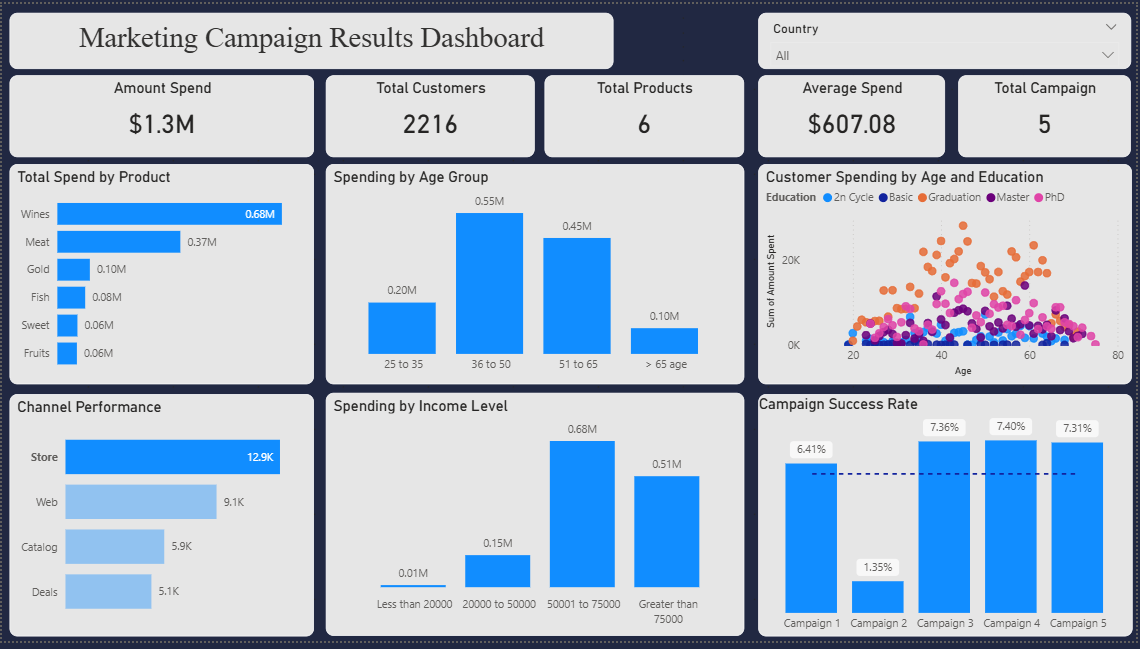

The page's visual inventory and layout, read from the dashboard file:
{"tool":"powerbi","page":{"name":"Page 1","canvas":[1280,720],"ordinal":0},"visuals":[{"type":"card","title":"Total Customers","fields":{"Values":["CountNonNull(marketing_data.ID)"]},"box":[363.6,79.6,234.6,91.9],"z":0},{"type":"card","title":"Total Products","fields":{"Values":["MarketingData.Total Products"]},"box":[609.3,79.6,223.7,91.9],"z":1000},{"type":"card","title":"Average Spend","fields":{"Values":["MarketingData.Avg Spend per Customer"]},"box":[848,79.6,209.9,91.9],"z":2000},{"type":"card","title":"Total Campaign","fields":{"Values":["MarketingData.Total Campaign"]},"box":[1073.1,79.6,193.5,91.9],"z":3000},{"type":"card","title":"Amount Spend  ","fields":{"Values":["MarketingData.Total Revenue"]},"box":[8.2,79.6,341.7,91.9],"z":4000},{"type":"barChart","title":"Total Spend by Product","fields":{"Y":["Products.Total Spend by Product"],"Category":["Products.Product"]},"box":[8.2,179.8,341.7,247],"z":5000},{"type":"barChart","title":"Channel Performance","fields":{"Y":["Channels.Total by Channel"],"Category":["Channels.Channel"]},"box":[8.2,437.7,341.7,271.7],"z":6000},{"type":"textbox","box":[8.2,9.6,677.9,63.1],"z":7000},{"type":"columnChart","title":"Spending by Age Group","fields":{"Y":["MarketingData.Amount Spent"],"Category":["MarketingData.Age Group"]},"box":[363.6,179.8,469.3,247],"z":8000},{"type":"columnChart","title":"Spending by Income Level","fields":{"Y":["MarketingData.Amount Spent"],"Category":["MarketingData.Income brackets"]},"box":[363.6,436.4,469.3,273.1],"z":9000},{"type":"scatterChart","title":"Customer Spending by Age and Education","fields":{"Y":["Sum(MarketingData.Amount Spent )"],"X":["MarketingData.Age"],"Series":["MarketingData.Education"]},"box":[847.7,180,419.2,246.9],"z":10000},{"type":"lineStackedColumnComboChart","title":"Campaign Success Rate","fields":{"Category":["Campaigns.Campaign"],"Y":["Campaigns.Campaign Success Rate"],"Y2":["Campaigns.Overall Campaign Success Rate"]},"box":[848,437.7,419.9,271.7],"z":11000},{"type":"slicer","fields":{"Values":["MarketingData.Country"]},"box":[848,9.6,418.5,63.1],"z":12000}]}

Visuals, with their boxes in screenshot pixels (x1, y1, x2, y2), scaled from the page's 1280x720 canvas onto the 1140x649 screenshot:
"Total Customers" card: 324,72,533,155
"Total Products" card: 543,72,742,155
"Average Spend" card: 755,72,942,155
"Total Campaign" card: 956,72,1128,155
"Amount Spend  " card: 7,72,312,155
"Total Spend by Product" barChart: 7,162,312,385
"Channel Performance" barChart: 7,395,312,639
textbox: 7,9,611,66
"Spending by Age Group" columnChart: 324,162,742,385
"Spending by Income Level" columnChart: 324,393,742,640
"Customer Spending by Age and Education" scatterChart: 755,162,1128,385
"Campaign Success Rate" lineStackedColumnComboChart: 755,395,1129,639
slicer - MarketingData.Country: 755,9,1128,66
